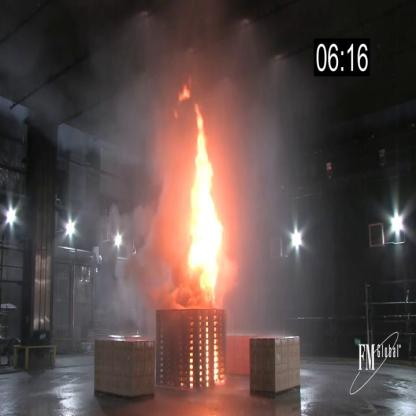fire: (183, 107, 227, 310)
